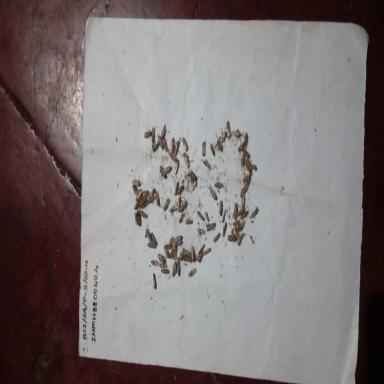pbw: (210, 185, 218, 201), (159, 165, 168, 179), (182, 135, 189, 153), (206, 221, 217, 232), (202, 158, 212, 170), (226, 120, 232, 140), (144, 126, 152, 141), (146, 228, 154, 242), (162, 165, 172, 176), (190, 240, 195, 262), (188, 267, 198, 278), (179, 200, 188, 212), (176, 254, 188, 263), (170, 136, 176, 154), (150, 140, 159, 152), (158, 133, 164, 151), (203, 246, 212, 258), (160, 124, 167, 139), (238, 232, 245, 247), (183, 153, 190, 168), (163, 196, 170, 211), (197, 209, 205, 222), (216, 139, 224, 152), (251, 206, 259, 219), (174, 157, 180, 174), (132, 177, 142, 187), (231, 129, 241, 139), (130, 184, 139, 195), (212, 232, 221, 243), (167, 236, 174, 250), (136, 187, 143, 201), (222, 224, 228, 240), (174, 139, 180, 155), (189, 170, 195, 186), (198, 248, 204, 264), (240, 193, 246, 209), (246, 157, 252, 173), (162, 139, 169, 152), (155, 188, 160, 206), (236, 208, 246, 217), (182, 248, 191, 258), (197, 227, 207, 236), (243, 130, 248, 148), (168, 150, 177, 160), (244, 162, 250, 177), (243, 149, 251, 160), (238, 221, 246, 232), (172, 261, 177, 278), (219, 130, 226, 142), (164, 244, 170, 258), (210, 143, 216, 157), (149, 185, 156, 197), (240, 184, 246, 198), (151, 232, 157, 246), (172, 246, 178, 260), (147, 240, 156, 249), (219, 200, 224, 216), (148, 194, 156, 204), (158, 253, 166, 263), (228, 234, 238, 242), (238, 142, 246, 152), (214, 181, 224, 189), (142, 188, 150, 198), (240, 210, 248, 220), (234, 226, 240, 239), (198, 244, 205, 255), (170, 202, 177, 213), (174, 180, 179, 195), (240, 154, 246, 166), (177, 185, 185, 194), (151, 258, 159, 267), (234, 202, 238, 220), (153, 272, 157, 290), (202, 140, 206, 157), (140, 195, 146, 206), (178, 212, 184, 223), (246, 176, 251, 189), (175, 234, 183, 242), (134, 196, 138, 212), (177, 260, 181, 276), (177, 197, 181, 213), (174, 239, 182, 247), (159, 262, 167, 270), (140, 210, 148, 218), (251, 164, 258, 173), (179, 252, 189, 258), (152, 127, 156, 141), (222, 210, 226, 224), (134, 212, 138, 226), (185, 218, 194, 224), (161, 268, 170, 274), (170, 247, 174, 260), (206, 210, 210, 222), (138, 214, 142, 226), (233, 221, 241, 227), (145, 227, 148, 239)
